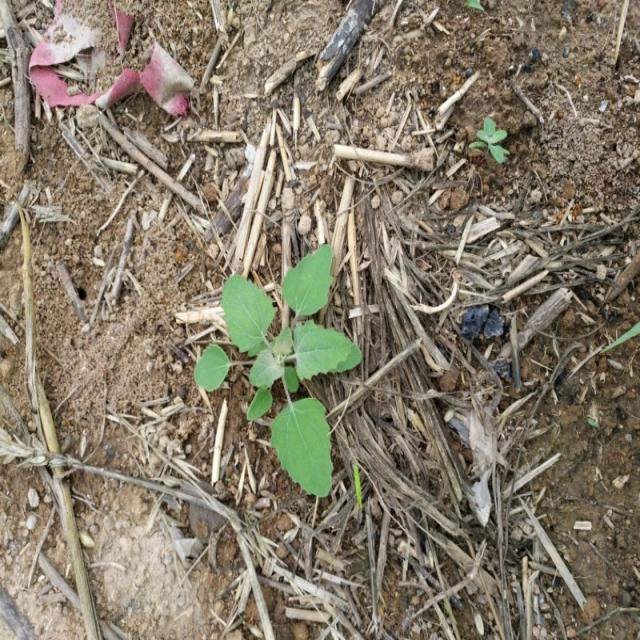ca: (197, 250, 362, 498)
